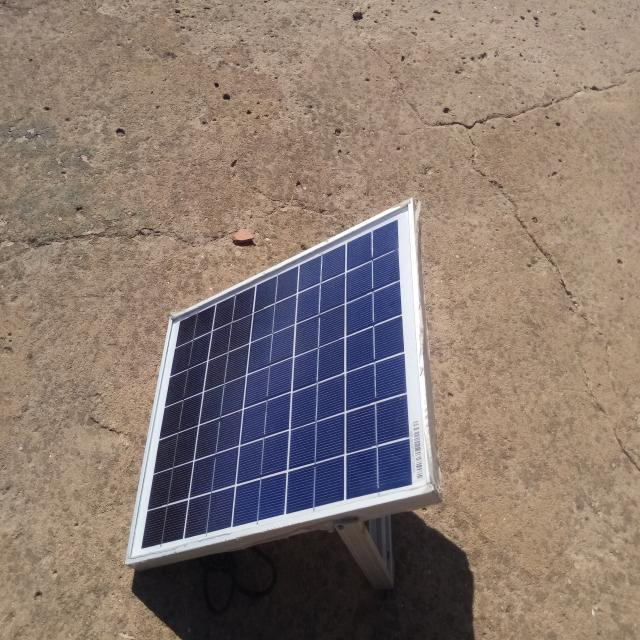no faulty: (129, 203, 435, 556)
